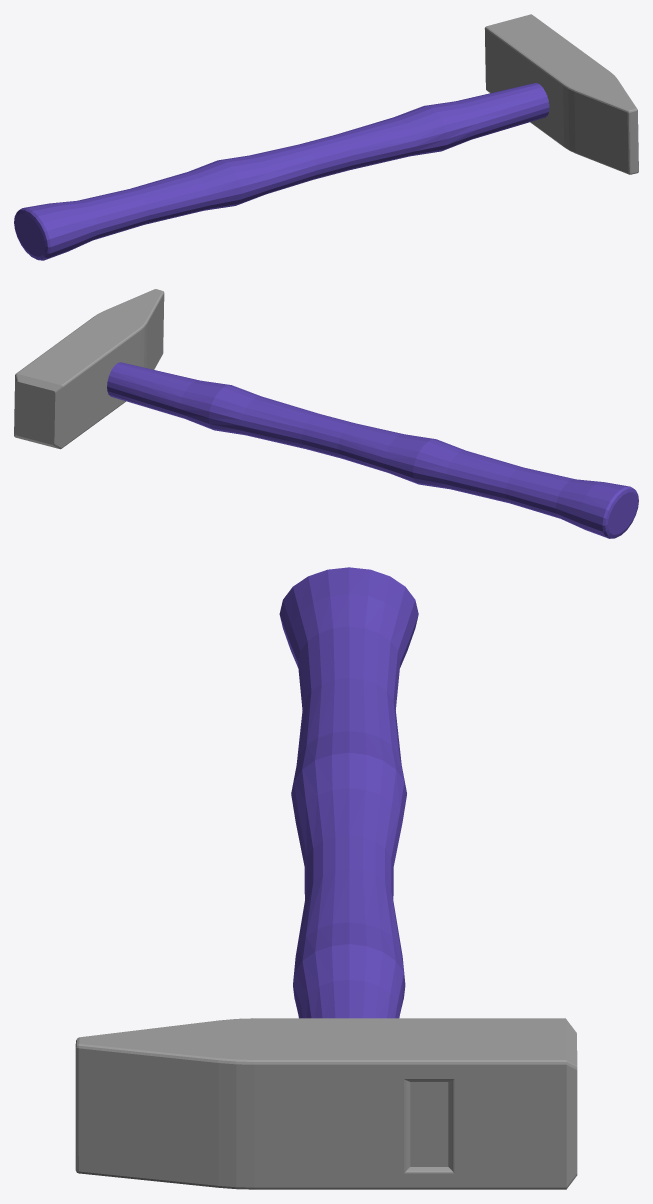
The model's file is old.glb.
3 views of the same model, one above another, from view 1: azimuth 30°, elevation 25°; view 2: azimuth 150°, elevation 25°; view 3: azimuth 270°, elevation 25° (orthographic). The views are drawn at different scales.
Visible parts, largest first — view 1: world; view 2: world; view 3: world.
Boxes of the visible parts, <box> form: world: <box>14,14,638,260</box>; world: <box>14,289,638,538</box>; world: <box>75,567,577,1189</box>.
Size of the model in its own units: 1 by 0.1171 by 0.3916.
